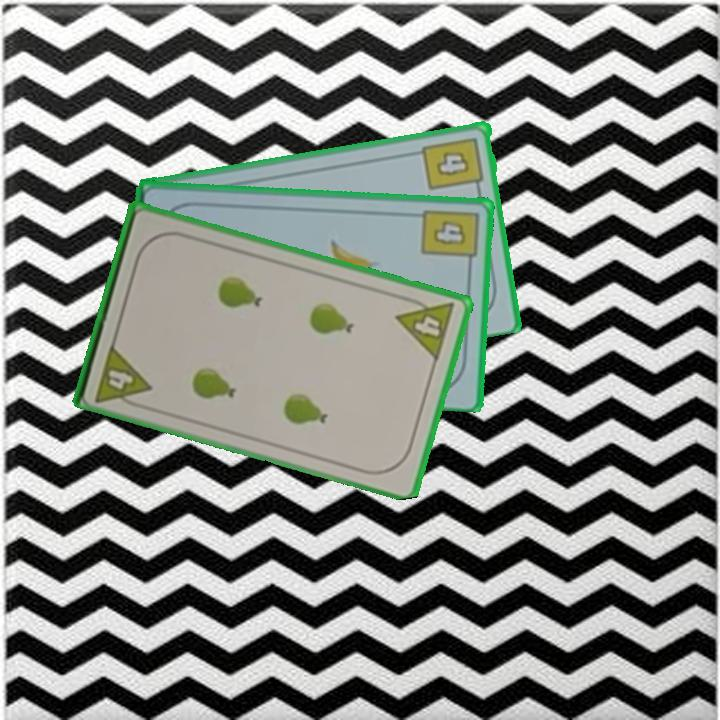4b: (420, 133, 487, 195), (418, 205, 481, 270)
4p: (392, 291, 458, 363), (91, 339, 154, 412)
